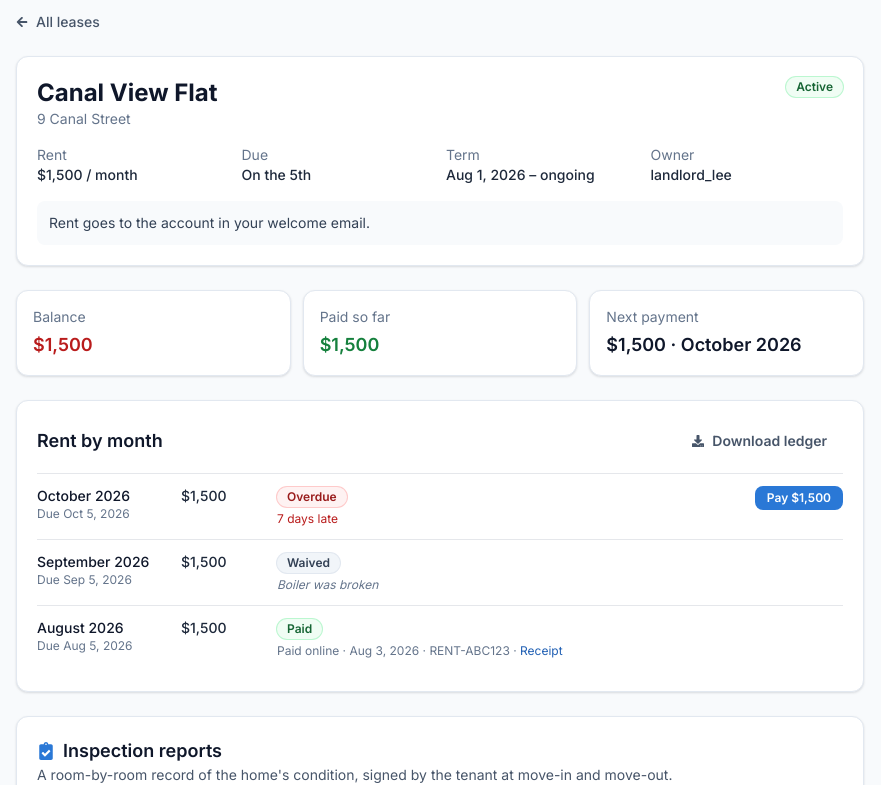
Test: Lease page › shows an error from a failed action
This screenshot has width=881, height=785.
What coordinates should you click on to do the following:
click the button "Pay $1,500"
I would click on:
 (799, 498)
Its box is [755, 486, 843, 510].
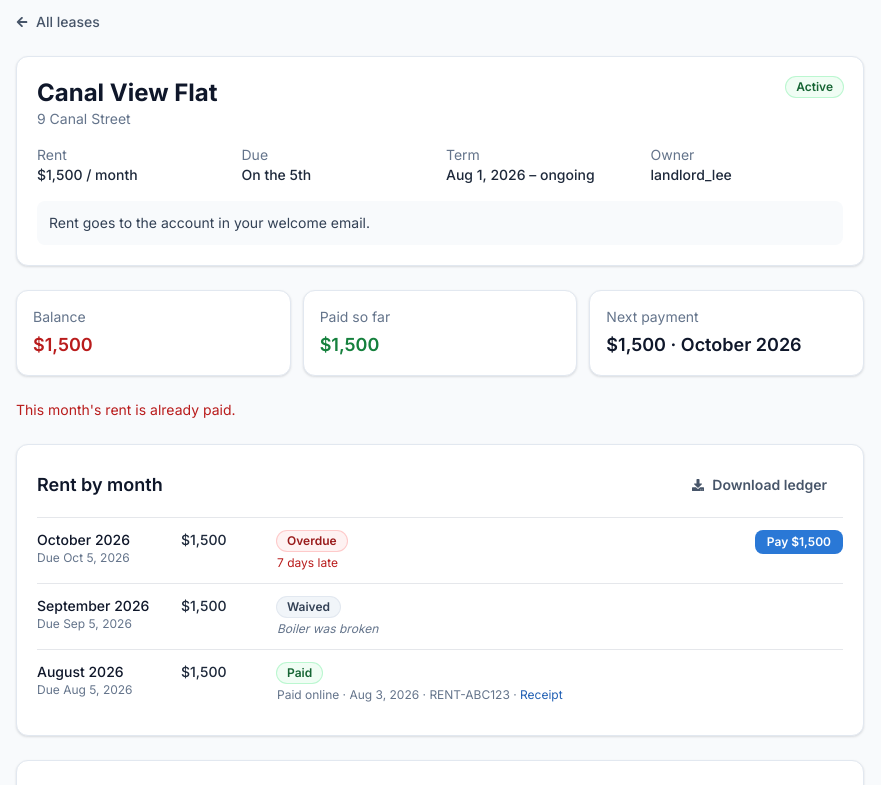
Check: the message reads "This month's rent is already paid.", box [16, 401, 236, 418]
